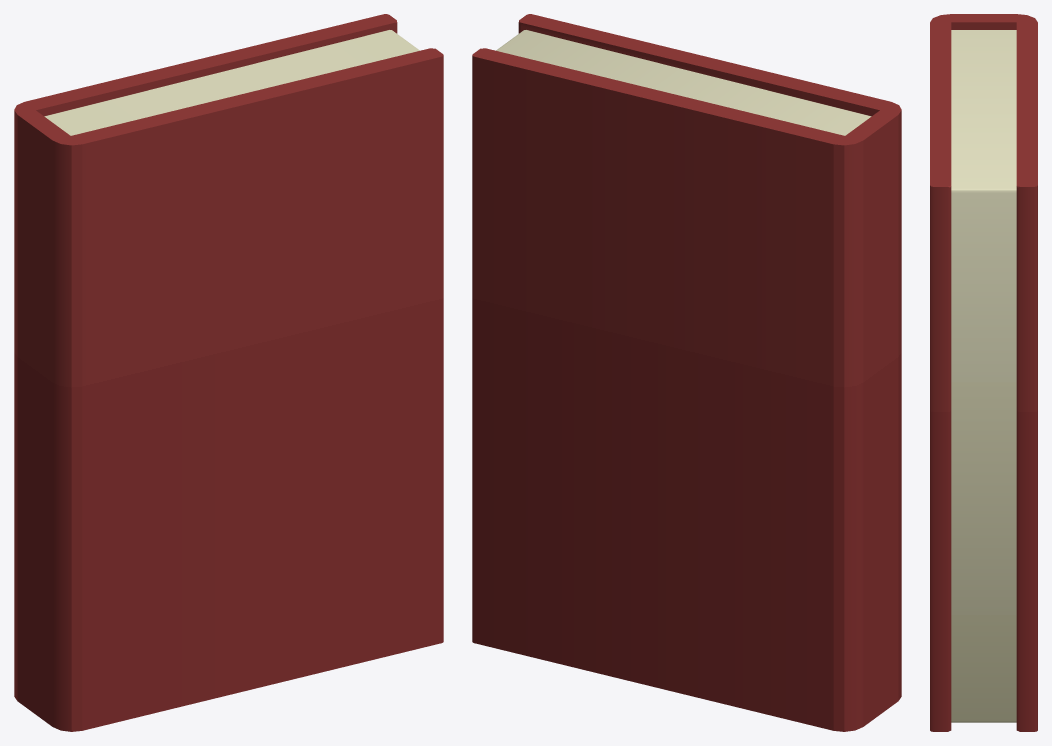
The model's file is Book.glb.
3 views of the same model, side by side, from view 1: azimuth 30°, elevation 25°; view 2: azimuth 150°, elevation 25°; view 3: azimuth 270°, elevation 25° (orthographic). The views are drawn at different scales.
Parts seen in each view (by area): view 1: Book; view 2: Book; view 3: Book.
Boxes of the visible parts, x1,y1,x2,y2 form: Book: (14,14,443,731); Book: (472,14,901,731); Book: (930,14,1037,731).
Bounding box in the file's own units: 0.2041 × 0.3 × 0.0538.
Materials: 1 (1 with a texture image).
